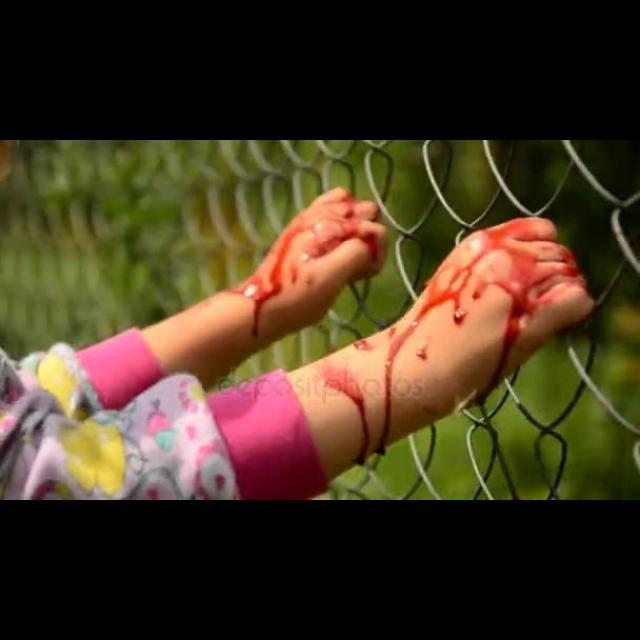blood: (376, 219, 586, 452), (231, 188, 385, 337), (324, 371, 372, 462), (354, 339, 372, 351)
